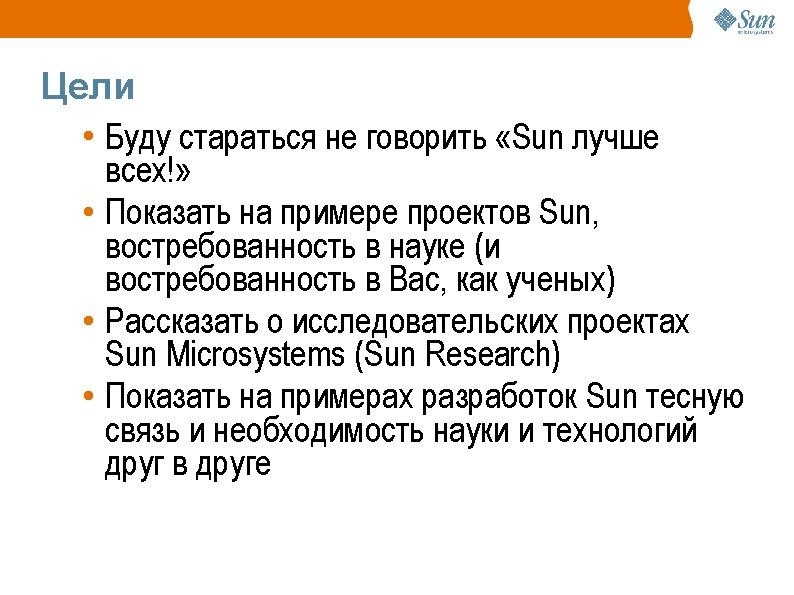paragraph: (69, 113, 772, 509)
title: (32, 60, 152, 111)
